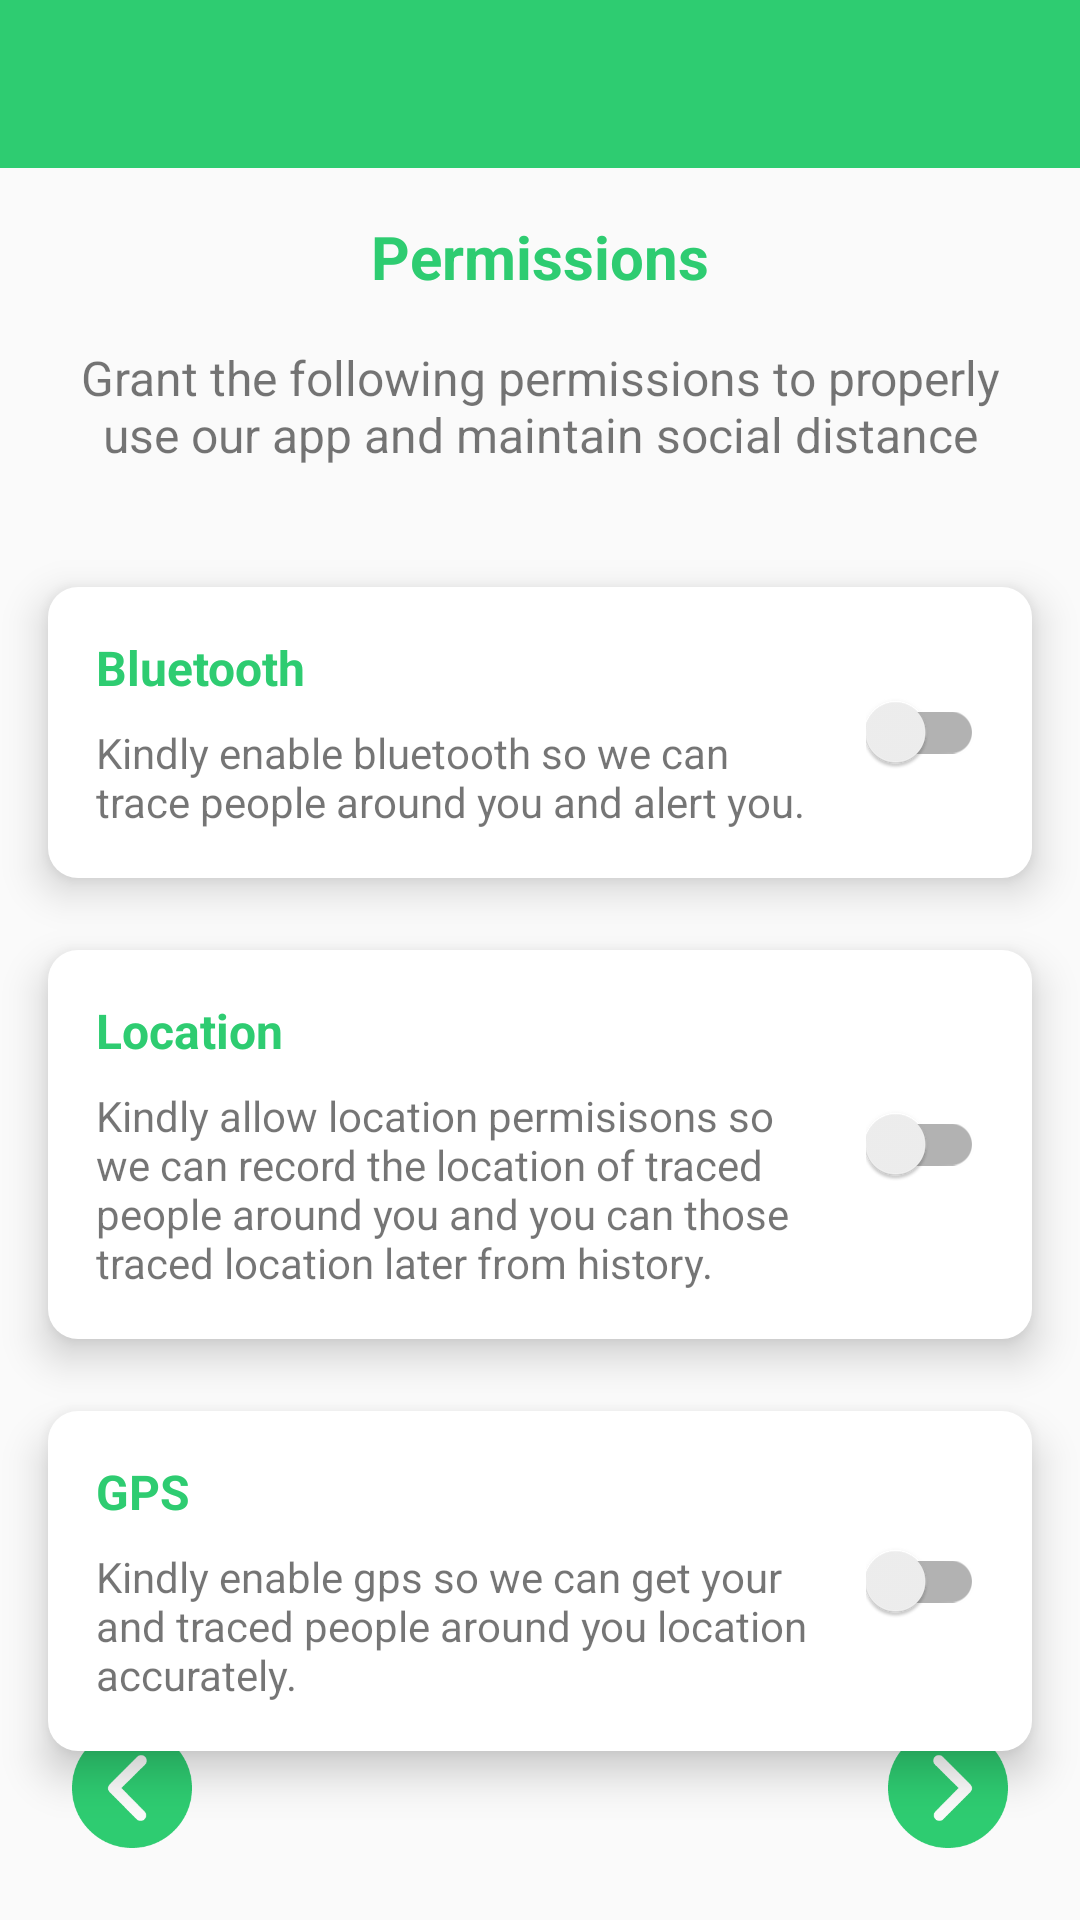

Named icons in this screenshot (1080w x 1920h) and their centers, (x=x, y=y):
arrow circle left: (x=132, y=1799)
arrow circle right: (x=948, y=1799)
